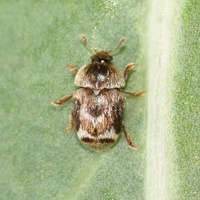insect: (50, 34, 143, 151)
